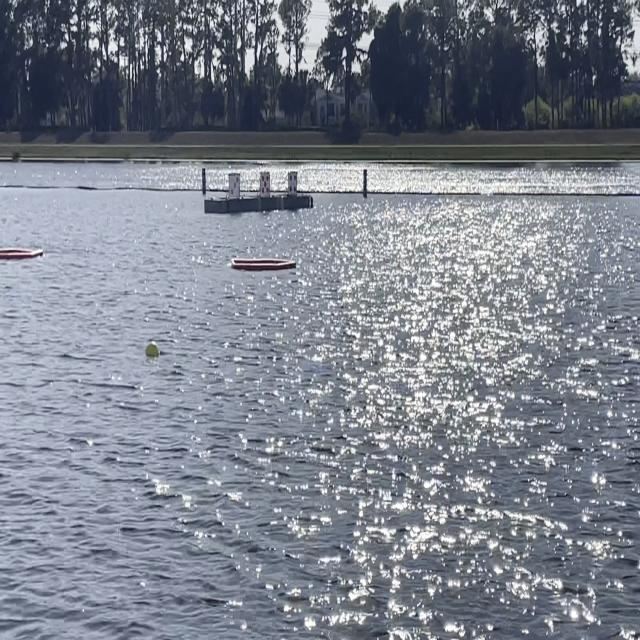buoy: (138, 324, 168, 374)
